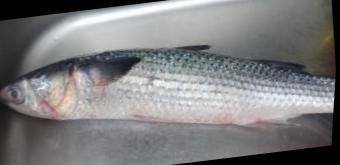fish: (0, 43, 336, 129)
